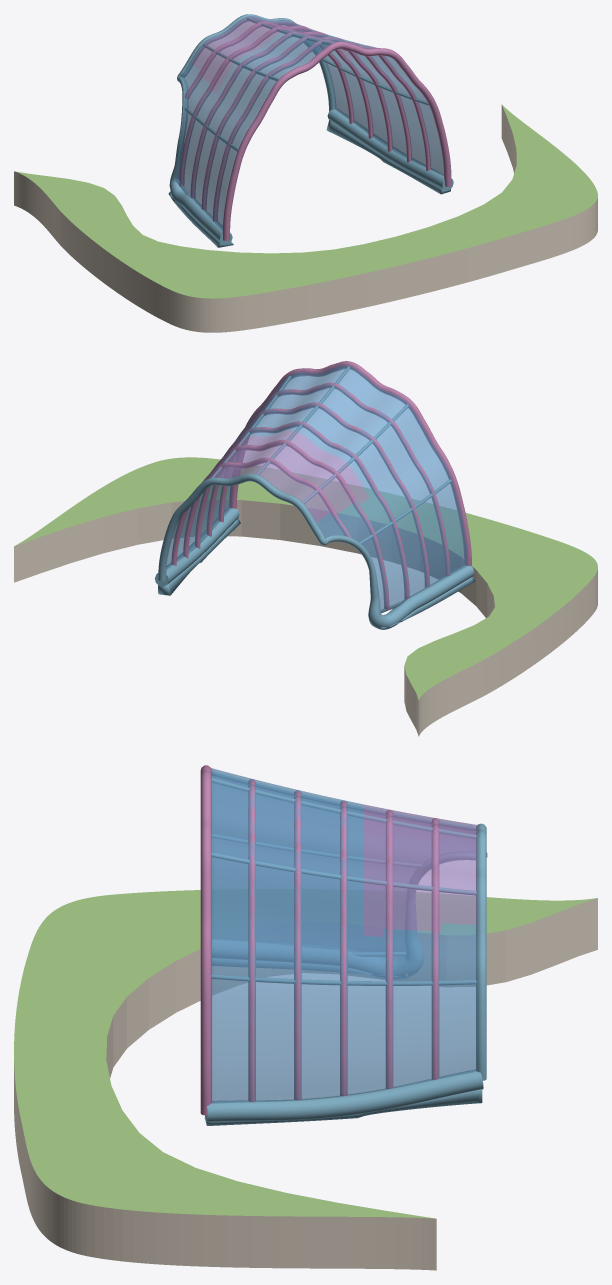
Rendered from cove-corner-with-shore-v4.glb.
The picture shows the model from 3 angles, top to bottom: view 1: azimuth 30°, elevation 25°; view 2: azimuth 150°, elevation 25°; view 3: azimuth 270°, elevation 25°; orthographic projection. The views are drawn at different scales.
Visible parts, largest first — view 1: P04 candidate / shared apron exact world floor and bank, Harbor / continuous translucent shell hall, Harbor / curved shell structural rib, Harbor / continuous entrance runner jamb rear arch, Harbor / curved shell structural rib.001, Harbor / curved shell structural rib.002, Harbor / shell grown footing.001, Harbor / curved shell structural rib.003, Harbor / curved shell structural rib.004, Harbor / corner structural rib joined to rim, Harbor / continuous grounded runner socket right; view 2: P04 candidate / shared apron exact world floor and bank, Harbor / continuous translucent shell hall, Harbor / continuous entrance runner jamb rear arch, Harbor / curved shell structural rib, Harbor / curved shell structural rib.001, Harbor / curved shell structural rib.002, Harbor / curved shell structural rib.003, Harbor / curved shell structural rib.004, Harbor / shell grown footing.001, Harbor / corner structural rib joined to rim, Harbor / continuous grounded runner socket right, Harbor / shell longitudinal seam.004 (+1 smaller); view 3: P04 candidate / shared apron exact world floor and bank, Harbor / continuous translucent shell hall, Harbor / continuous entrance runner jamb rear arch, Harbor / shell grown footing.001, Harbor / curved shell structural rib, Harbor / curved shell structural rib.001, Harbor / curved shell structural rib.002, Harbor / curved shell structural rib.003, Harbor / curved shell structural rib.004, Harbor / corner structural rib joined to rim, Harbor / continuous grounded runner socket right, Harbor / shell longitudinal seam.001 (+5 smaller).
Boxes of the visible parts, left/top/right/bottom form: P04 candidate / shared apron exact world floor and bank: left=14, top=104, right=597, bottom=332; Harbor / continuous translucent shell hall: left=175, top=16, right=443, bottom=230; Harbor / curved shell structural rib: left=222, top=41, right=451, bottom=240; Harbor / continuous entrance runner jamb rear arch: left=169, top=14, right=336, bottom=244; Harbor / curved shell structural rib.001: left=212, top=39, right=430, bottom=221; Harbor / curved shell structural rib.002: left=201, top=36, right=411, bottom=210; Harbor / shell grown footing.001: left=327, top=108, right=453, bottom=190; Harbor / curved shell structural rib.003: left=190, top=31, right=392, bottom=198; Harbor / curved shell structural rib.004: left=179, top=26, right=373, bottom=186; Harbor / corner structural rib joined to rim: left=184, top=21, right=354, bottom=123; Harbor / continuous grounded runner socket right: left=326, top=120, right=450, bottom=194; P04 candidate / shared apron exact world floor and bank: left=14, top=457, right=597, bottom=736; Harbor / continuous translucent shell hall: left=166, top=365, right=468, bottom=612; Harbor / continuous entrance runner jamb rear arch: left=158, top=473, right=474, bottom=629; Harbor / curved shell structural rib: left=229, top=361, right=471, bottom=566; Harbor / curved shell structural rib.001: left=218, top=382, right=450, bottom=576; Harbor / curved shell structural rib.002: left=206, top=402, right=429, bottom=587; Harbor / curved shell structural rib.003: left=195, top=421, right=409, bottom=599; Harbor / curved shell structural rib.004: left=183, top=440, right=389, bottom=610; Harbor / shell grown footing.001: left=155, top=507, right=239, bottom=586; Harbor / corner structural rib joined to rim: left=171, top=457, right=351, bottom=565; Harbor / continuous grounded runner socket right: left=158, top=518, right=240, bottom=595; Harbor / shell longitudinal seam.004: left=302, top=404, right=408, bottom=503; P04 candidate / shared apron exact world floor and bank: left=14, top=890, right=597, bottom=1270; Harbor / continuous translucent shell hall: left=211, top=768, right=477, bottom=1103; Harbor / continuous entrance runner jamb rear arch: left=212, top=823, right=487, bottom=1080; Harbor / shell grown footing.001: left=205, top=1069, right=483, bottom=1122; Harbor / curved shell structural rib: left=200, top=765, right=211, bottom=1115; Harbor / curved shell structural rib.001: left=248, top=779, right=255, bottom=1102; Harbor / curved shell structural rib.002: left=294, top=790, right=301, bottom=1100; Harbor / curved shell structural rib.003: left=340, top=800, right=347, bottom=1095; Harbor / curved shell structural rib.004: left=385, top=810, right=393, bottom=1088; Harbor / corner structural rib joined to rim: left=431, top=818, right=439, bottom=1079; Harbor / continuous grounded runner socket right: left=204, top=1089, right=482, bottom=1125; Harbor / shell longitudinal seam.001: left=211, top=974, right=476, bottom=985.
Bounding box in the file's own units: 9.42 × 4.25 × 7.05.
